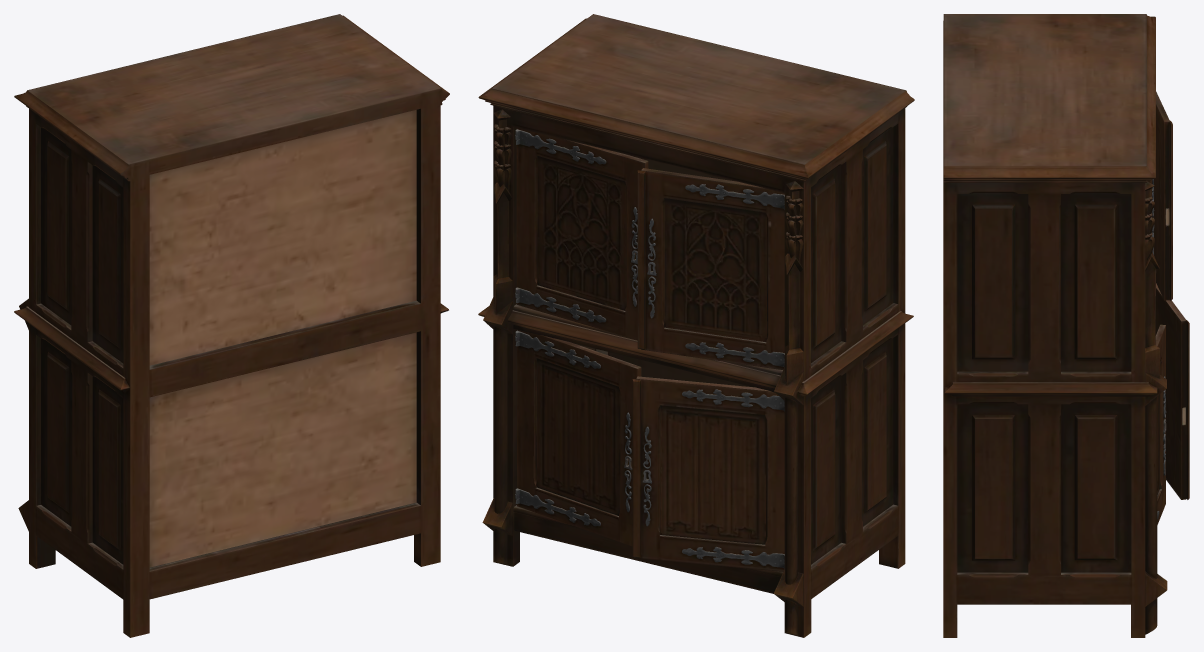
File: GothicCabinet_01.glb
3 views of the same model, side by side, from view 1: azimuth 30°, elevation 25°; view 2: azimuth 150°, elevation 25°; view 3: azimuth 270°, elevation 25° (orthographic).
Parts seen in each view (by area): view 1: GothicCabinet_01_cabinet; view 2: GothicCabinet_01_cabinet; view 3: GothicCabinet_01_cabinet.
Part boxes in pixels (x1,y1,x2,y2): GothicCabinet_01_cabinet: [14, 14, 449, 637]; GothicCabinet_01_cabinet: [478, 14, 914, 637]; GothicCabinet_01_cabinet: [943, 14, 1189, 637].
Size of the model in its own units: 1.72 by 2.36 by 1.12.
Materials: 1 (1 with a texture image).
